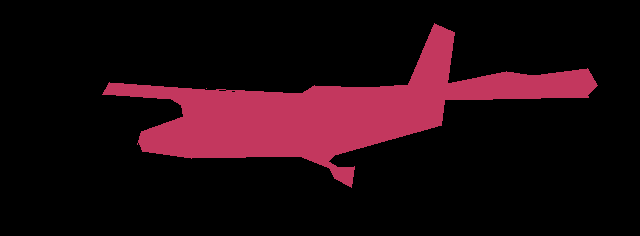Airplane: (102, 23, 597, 188)
